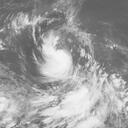cyclone: (37, 39, 75, 81)
